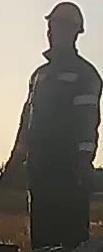helmet: (44, 1, 86, 39)
vest: (21, 55, 102, 176)
